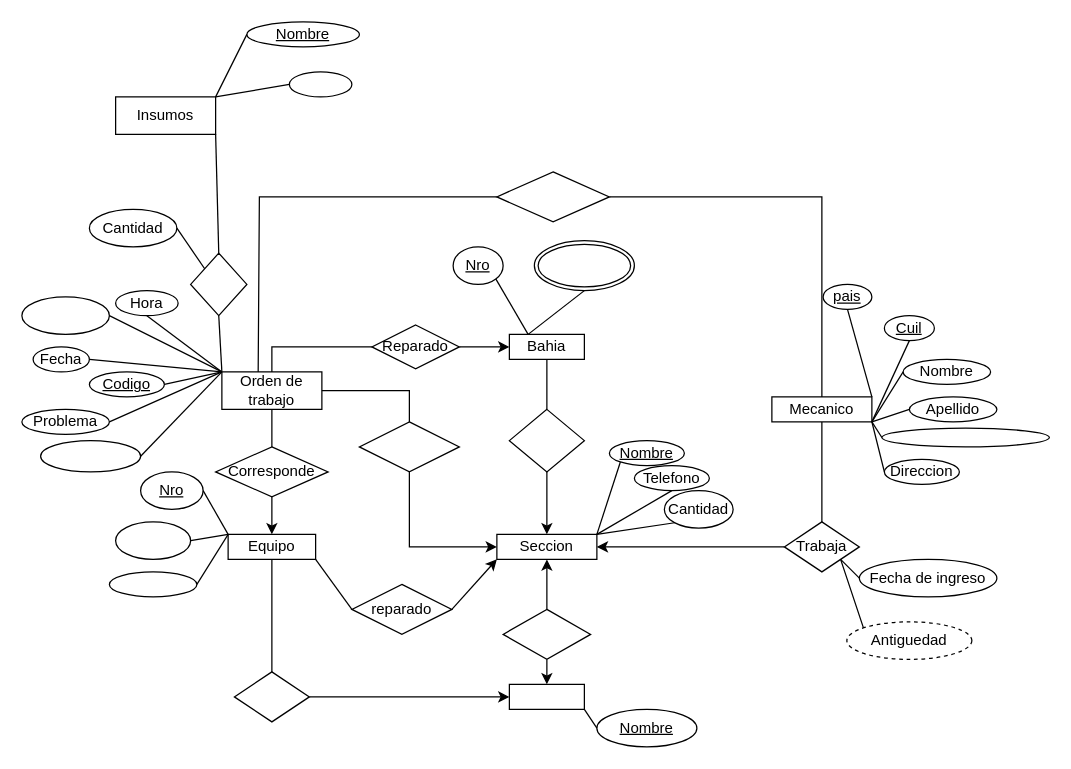
Some shapes in this 1071 by 769 pixel diagram are drawn without their labels. Each missing label, with the centre of its shape:
Atiende: the point at 408,446
Cant horas: the point at 65,315
dentro: the point at 546,440
Elementos: the point at 583,265
es de: the point at 271,696
Fecha de nacimiento: the point at 965,437
Finalizacion: the point at 90,455
Marca: the point at 320,84
Modelo: the point at 152,584
Nro serie: the point at 152,540
repara: the point at 546,633
Responsable: the point at 552,196
Tipo: the point at 546,696
Utiliza: the point at 218,284
